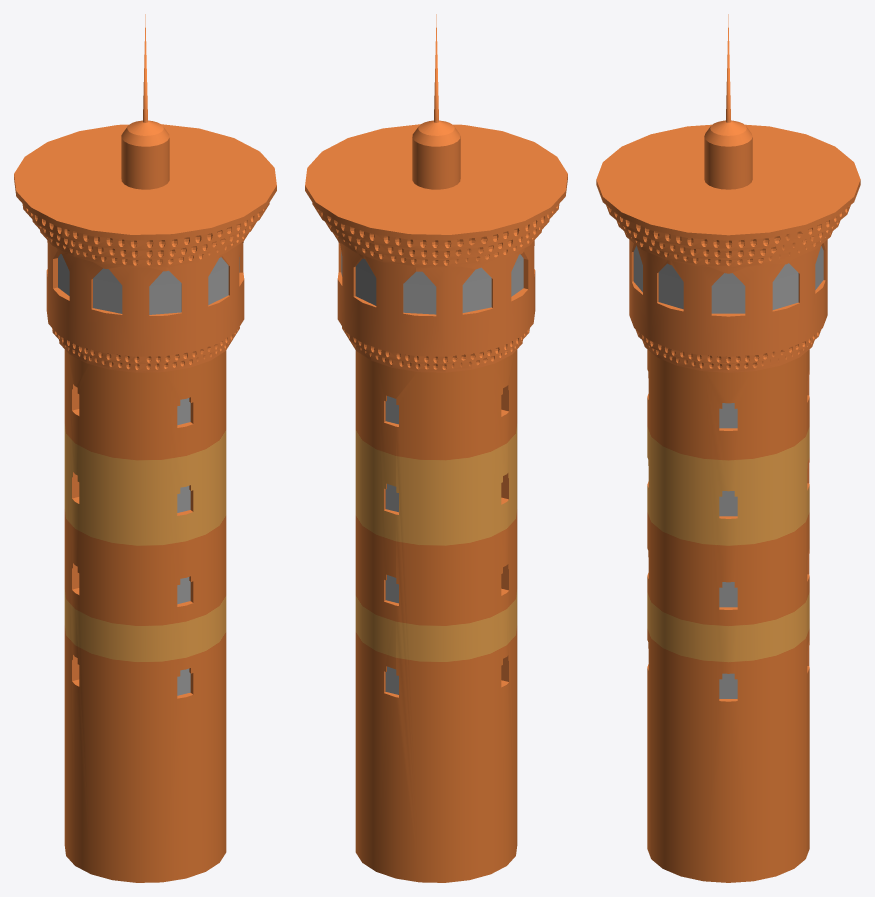
The model's file is dabaza.fbx.
3 views of the same model, side by side, from view 1: azimuth 30°, elevation 25°; view 2: azimuth 150°, elevation 25°; view 3: azimuth 270°, elevation 25° (orthographic).
Parts seen in each view (by area): view 1: pCylinder10, pCylinder9; view 2: pCylinder10, pCylinder9; view 3: pCylinder10, pCylinder9.
Boxes of the visible parts, box(x1,y1,x2,y2) form: pCylinder10: box(14, 124, 276, 882); pCylinder9: box(121, 120, 169, 189); pCylinder10: box(305, 124, 567, 882); pCylinder9: box(412, 120, 460, 189); pCylinder10: box(596, 124, 860, 882); pCylinder9: box(704, 120, 752, 189).
Bounding box in the file's own units: 5.84 × 20.36 × 5.84.
